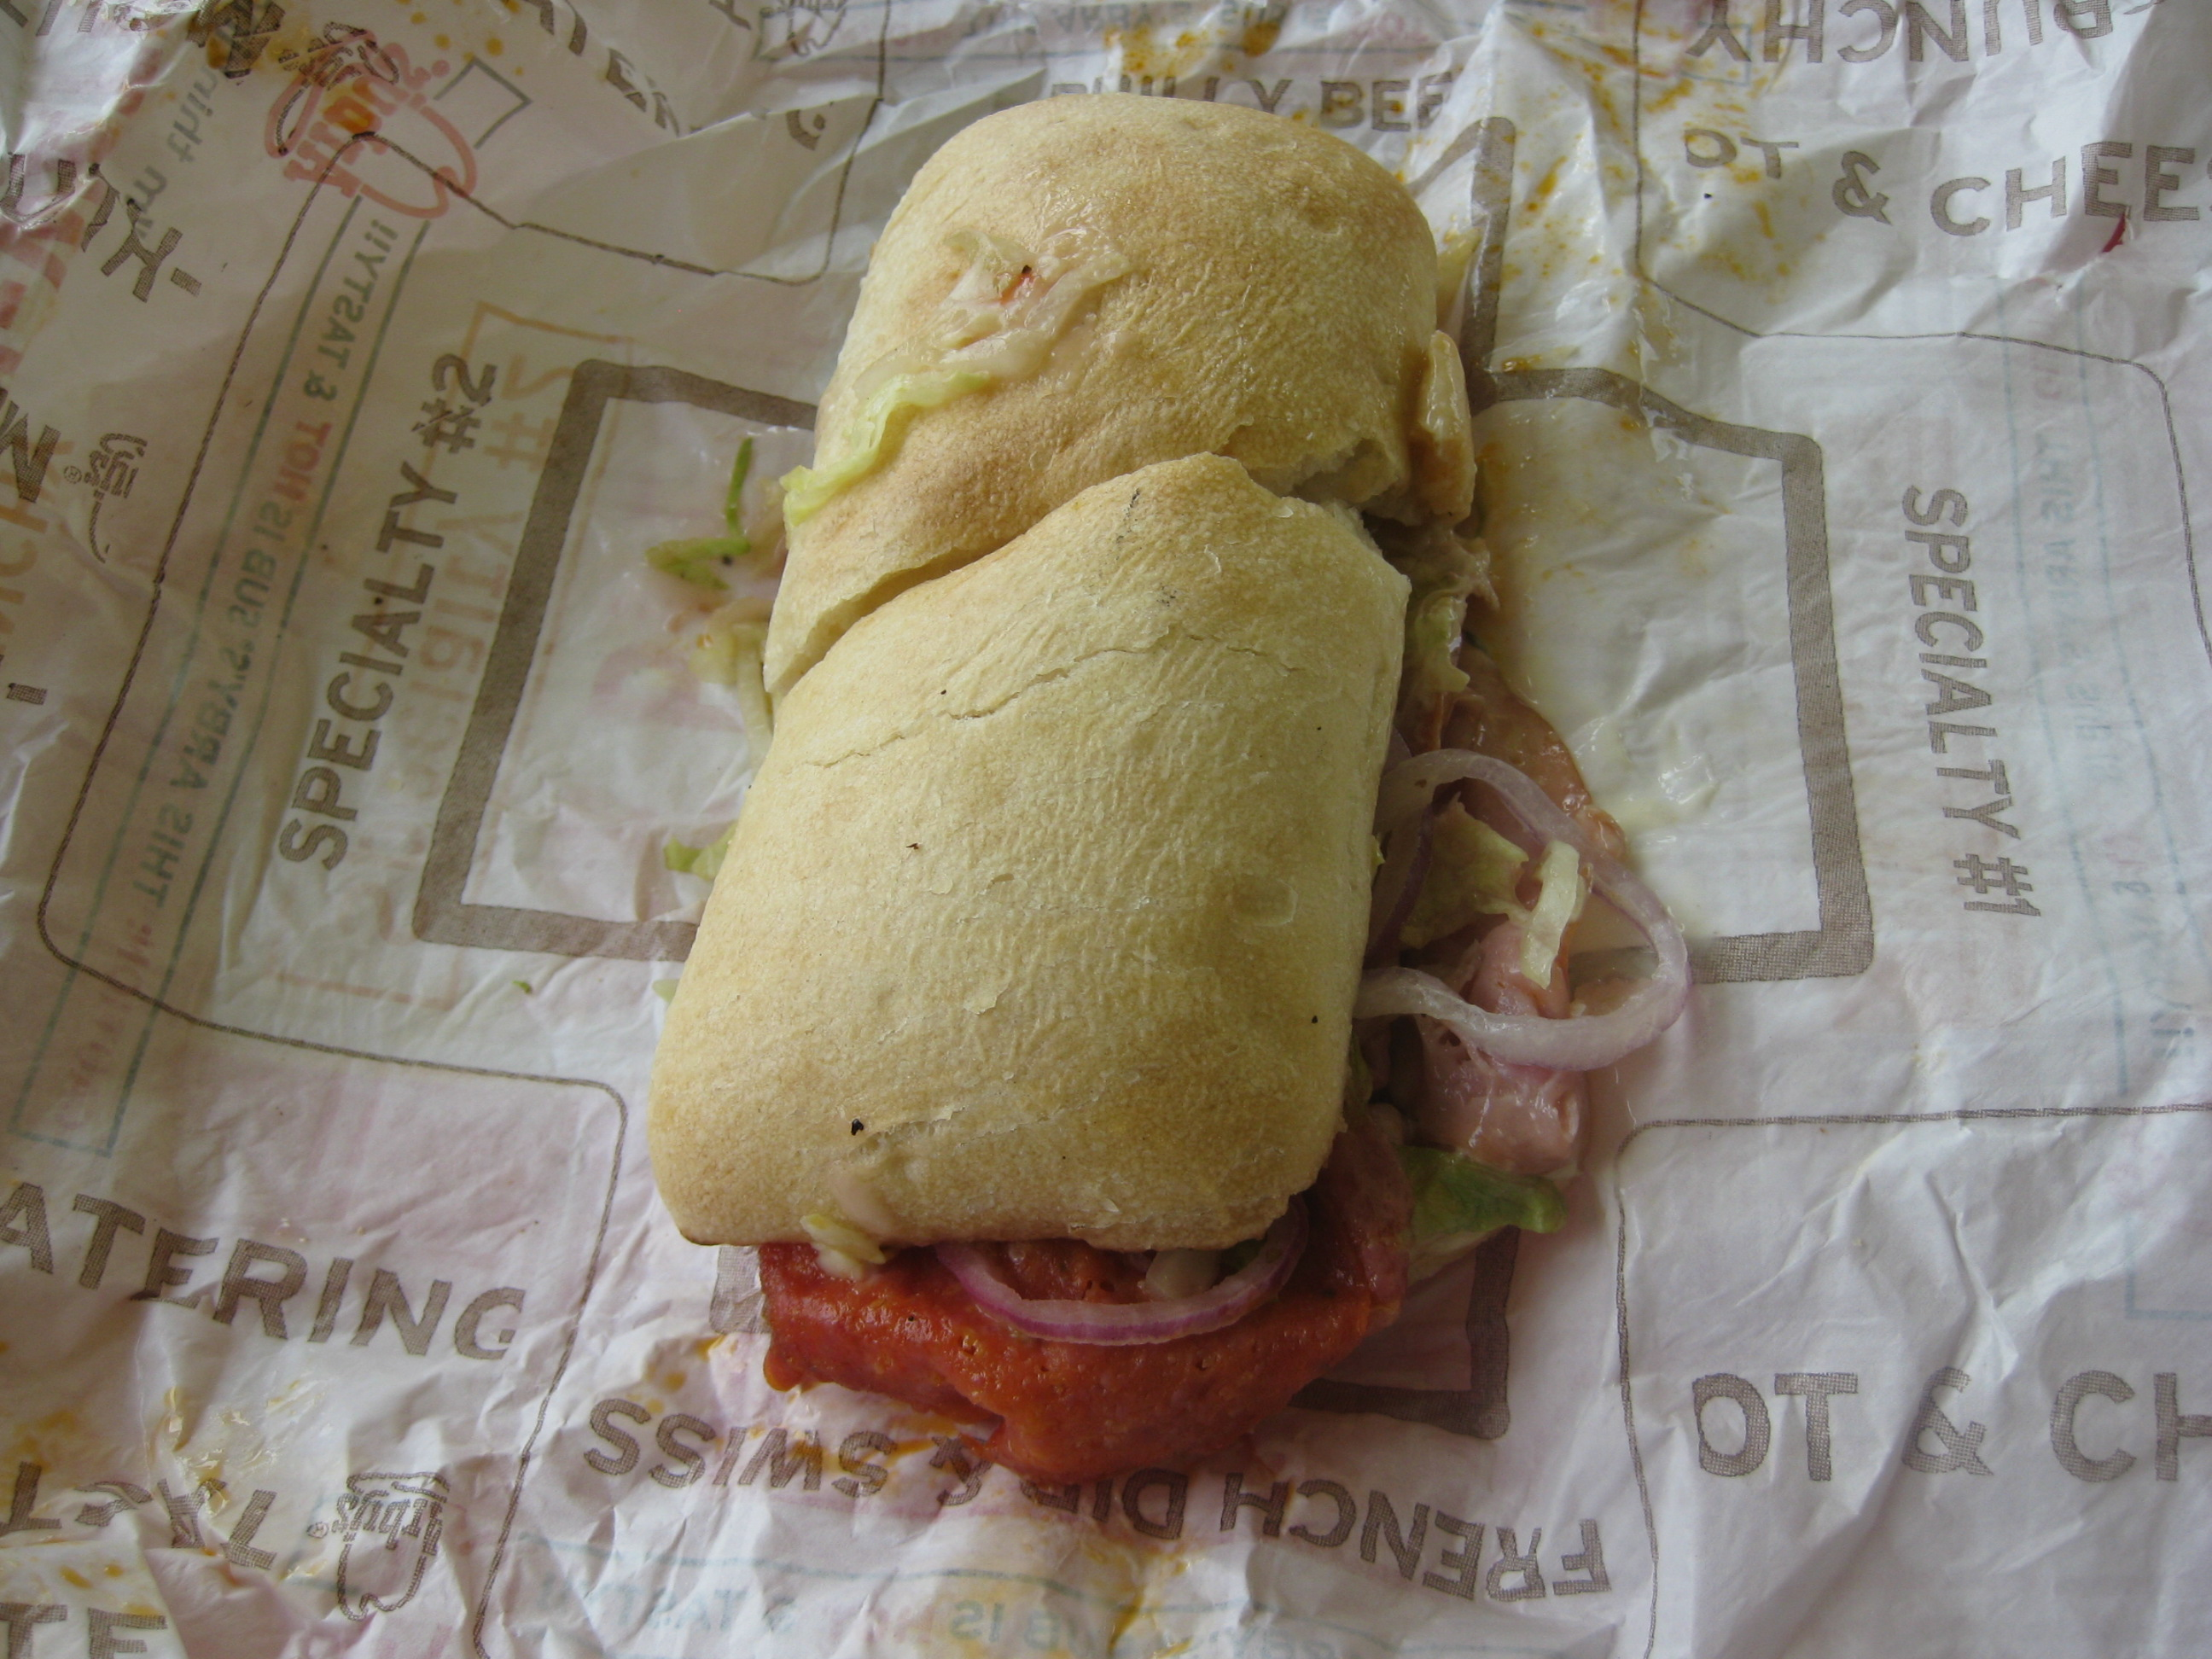sub: (669, 66, 1687, 1431)
